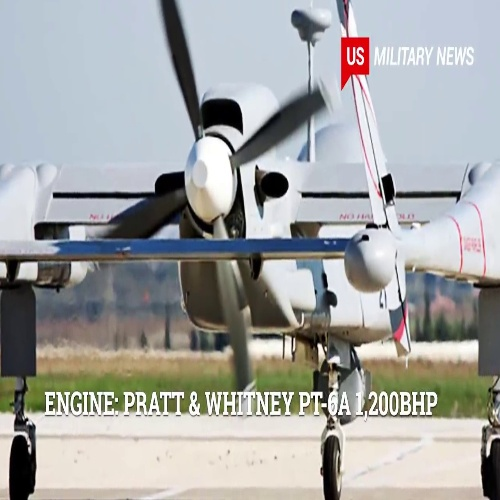uav255: (1, 1, 421, 500)
